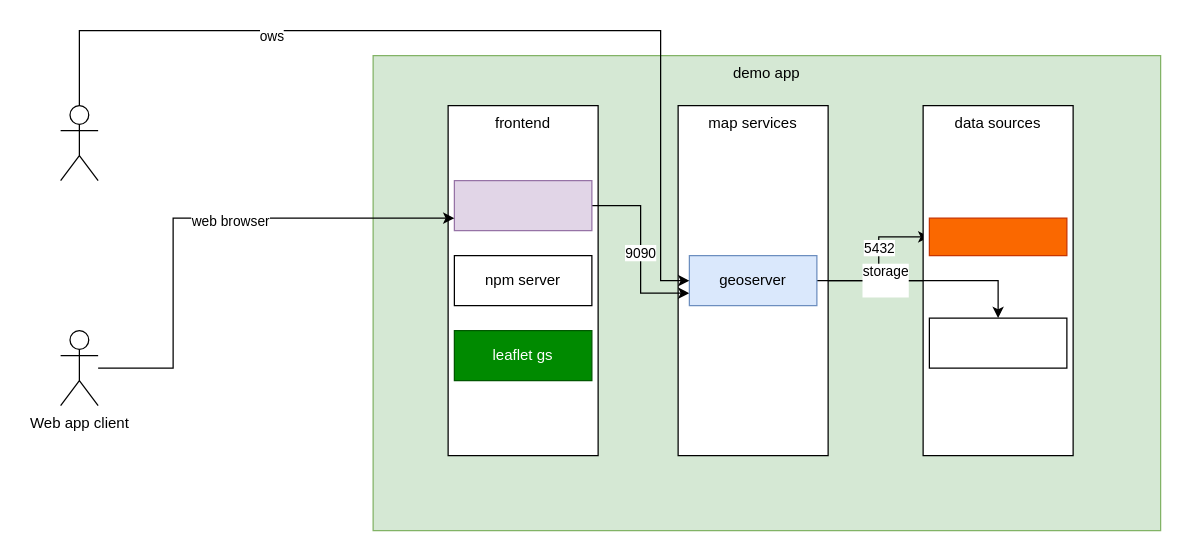
Image size: 1183x553. Some labels were removed from this diagram. The centre of each missing label's shape, as x and y in pixels:
"GIS system client" belongs at (x=78, y=142).
"gpkg, fgb files" belongs at (x=997, y=342).
"post gis" belongs at (x=997, y=236).
"react app" belongs at (x=522, y=205).
